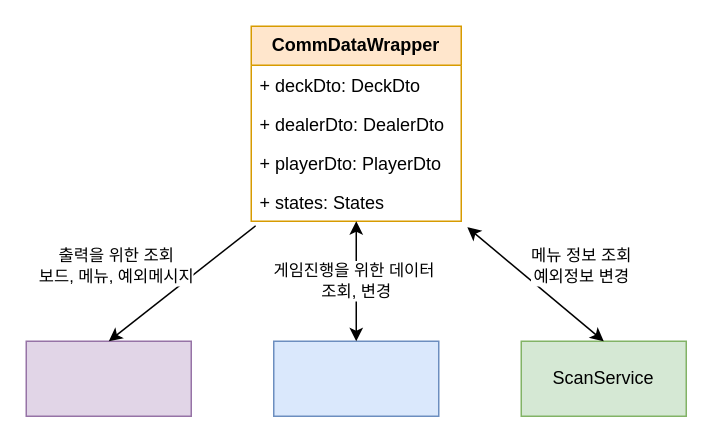
Image size: 713x443. Some labels were removed from this diagram. The shapes that lost their labels are listed below. From the top down, each one's centre as x and y in pixels, then its label:
(x=108, y=378): UIService
(x=355, y=378): GameService
